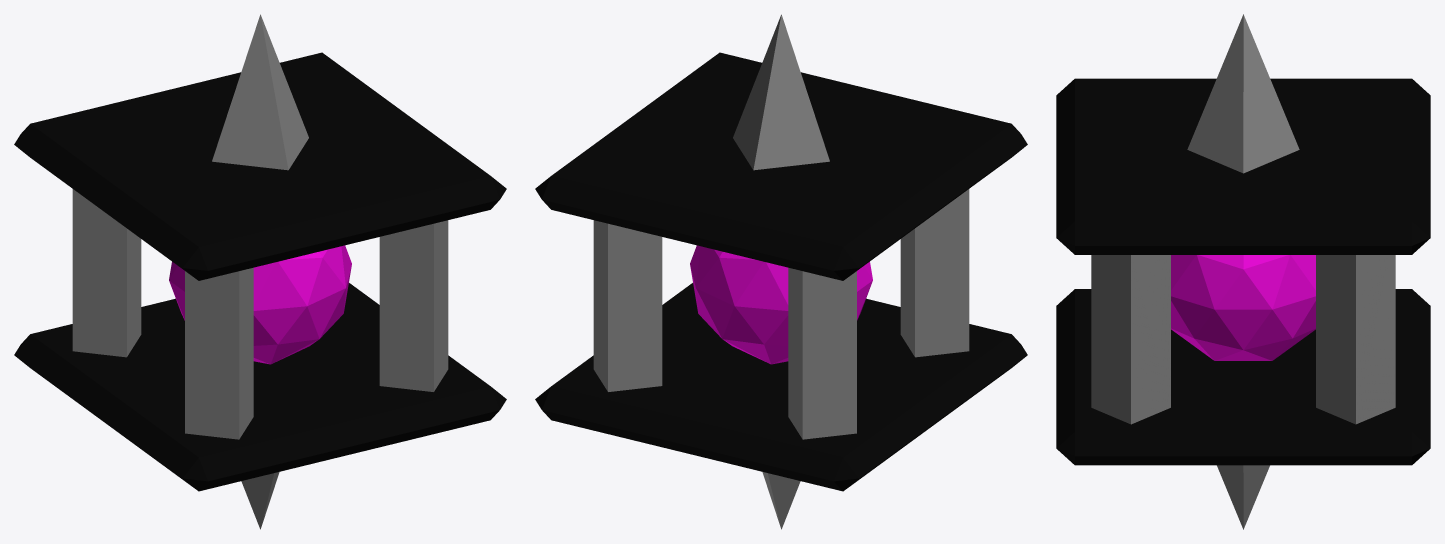
Rendered from CubeEnemy.fbx.
The picture shows the model from 3 angles, left to right: view 1: azimuth 30°, elevation 25°; view 2: azimuth 150°, elevation 25°; view 3: azimuth 270°, elevation 25°; orthographic projection.
Parts seen in each view (by area): view 1: Cube, Cube.001, Cube.002, Icosphere, Cone, Cone.001; view 2: Cube, Cube.001, Cube.002, Icosphere, Cone, Cone.001; view 3: Cube, Cube.001, Cube.002, Icosphere, Cone, Cone.001.
Boxes of the visible parts, left/top/right/bottom form: Cube: left=14, top=52, right=506, bottom=280; Cube.001: left=14, top=283, right=506, bottom=491; Cube.002: left=72, top=189, right=448, bottom=439; Icosphere: left=169, top=245, right=351, bottom=364; Cone: left=212, top=14, right=308, bottom=170; Cone.001: left=241, top=472, right=279, bottom=529; Cube: left=535, top=52, right=1027, bottom=280; Cube.001: left=535, top=283, right=1027, bottom=491; Cube.002: left=593, top=189, right=969, bottom=439; Icosphere: left=690, top=245, right=872, bottom=364; Cone: left=733, top=14, right=829, bottom=170; Cone.001: left=762, top=472, right=800, bottom=529; Cube: left=1056, top=78, right=1430, bottom=254; Cube.001: left=1056, top=289, right=1430, bottom=465; Cube.002: left=1091, top=255, right=1395, bottom=424; Icosphere: left=1171, top=255, right=1315, bottom=360; Cone: left=1187, top=14, right=1299, bottom=173; Cone.001: left=1217, top=465, right=1269, bottom=529.
Size of the model in its own units: 200 by 304 by 200.
